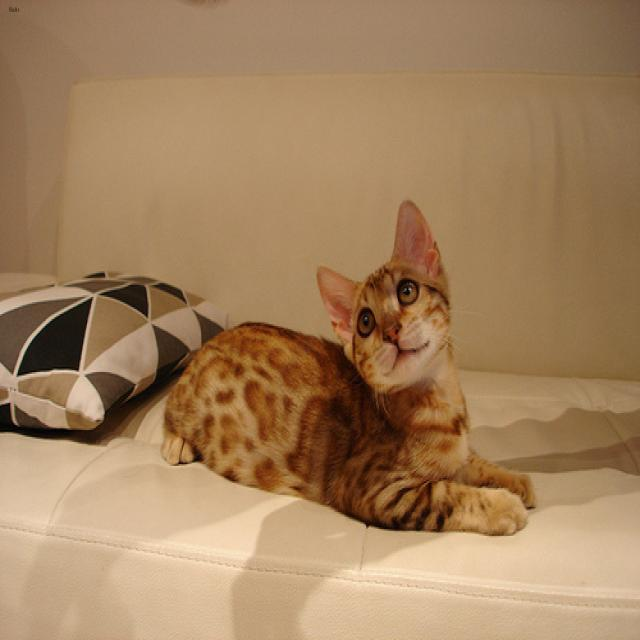Bengal: (316, 197, 458, 388)
